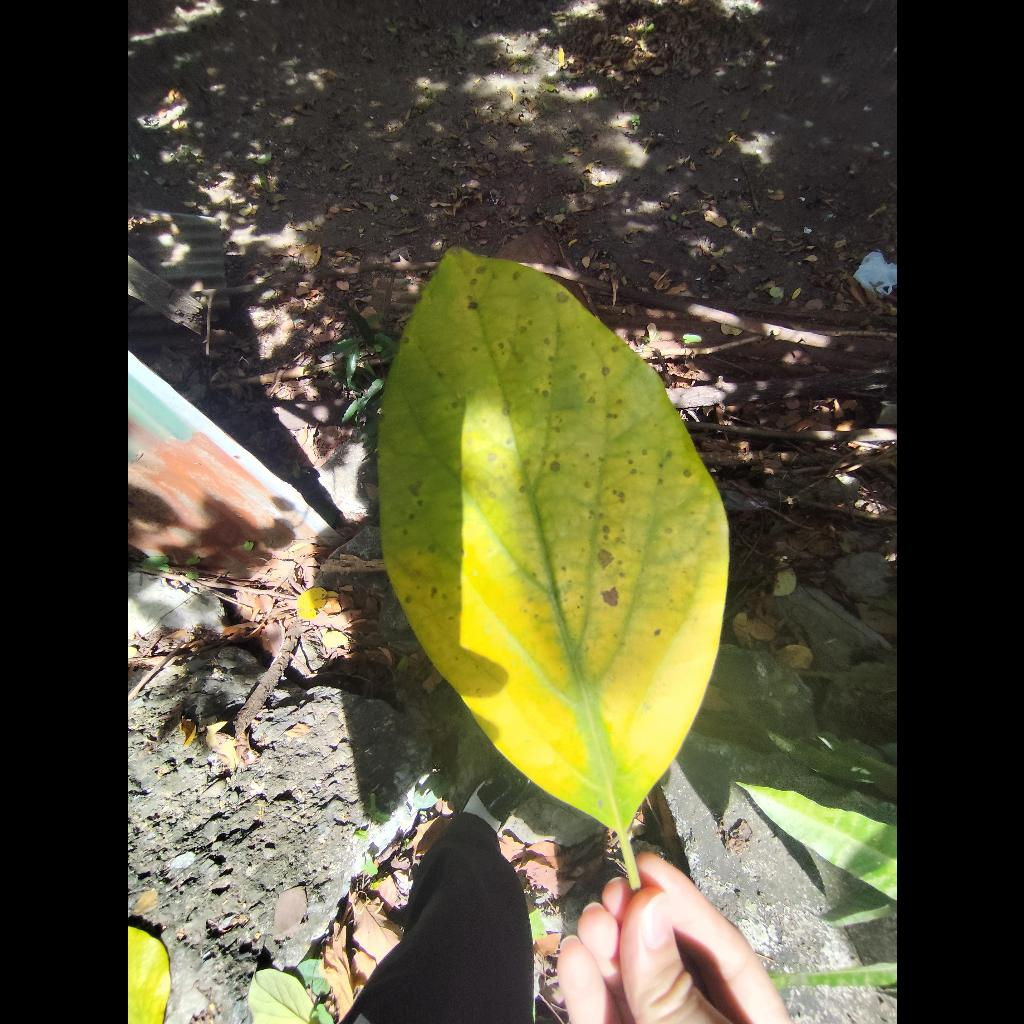deficiencia_nutricional: (379, 249, 727, 831)
